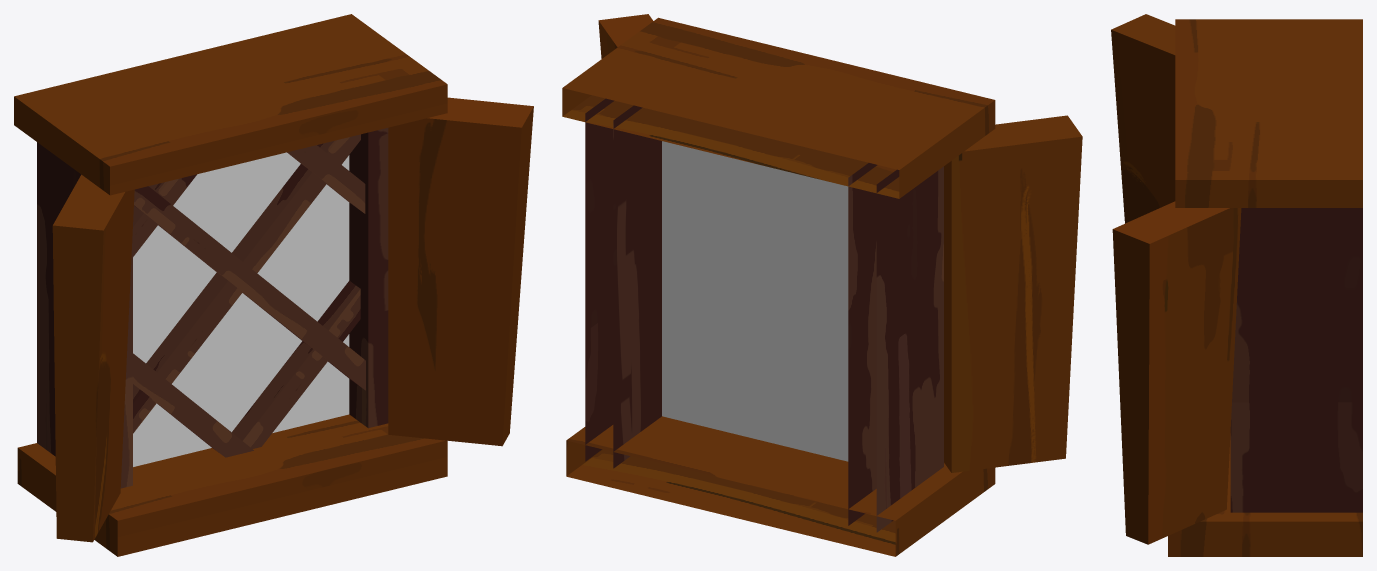
The model's file is SM_BLD_window_v08_02.fbx.
3 renders of one model, left to right at view 1: azimuth 30°, elevation 25°; view 2: azimuth 150°, elevation 25°; view 3: azimuth 270°, elevation 25°, orthographic. The views are drawn at different scales.
Parts seen in each view (by area): view 1: SM_BLD_window_v08_02; view 2: SM_BLD_window_v08_02; view 3: SM_BLD_window_v08_02.
Part boxes in pixels (<box>): SM_BLD_window_v08_02: <box>14,14,533,556</box>; SM_BLD_window_v08_02: <box>562,14,1082,556</box>; SM_BLD_window_v08_02: <box>1111,14,1362,556</box>.
Size of the model in its own units: 113 by 86.65 by 52.22.
